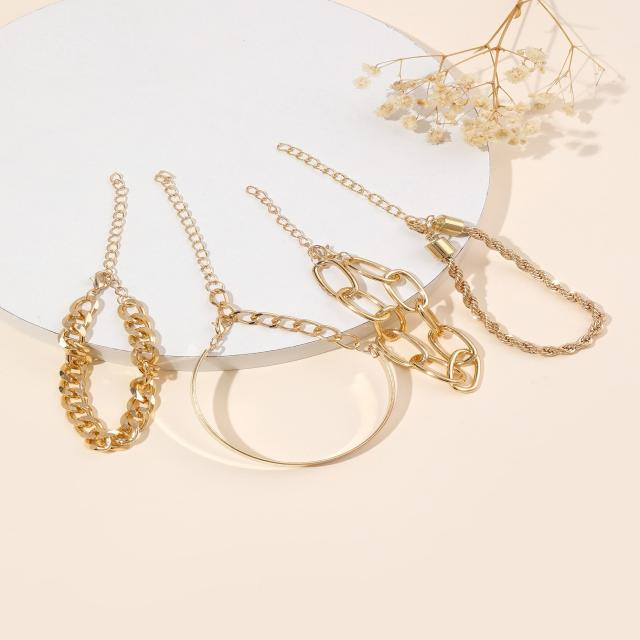bracelet: (29, 103, 640, 485)
